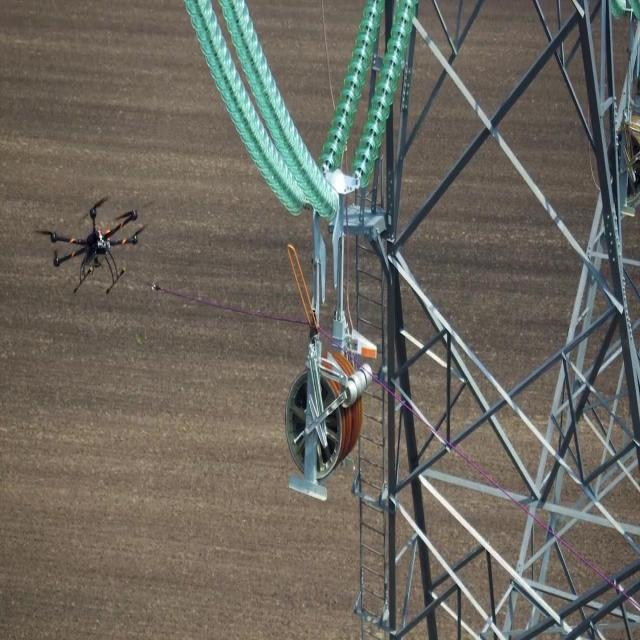UAV: (34, 195, 148, 295)
